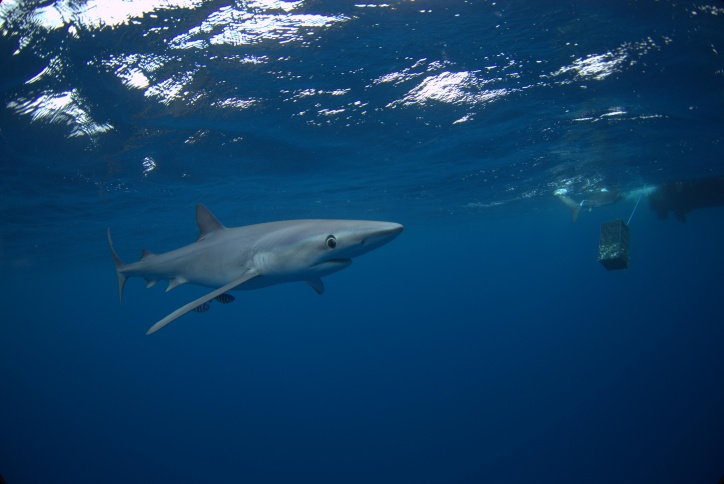Azul: (106, 189, 413, 351)
